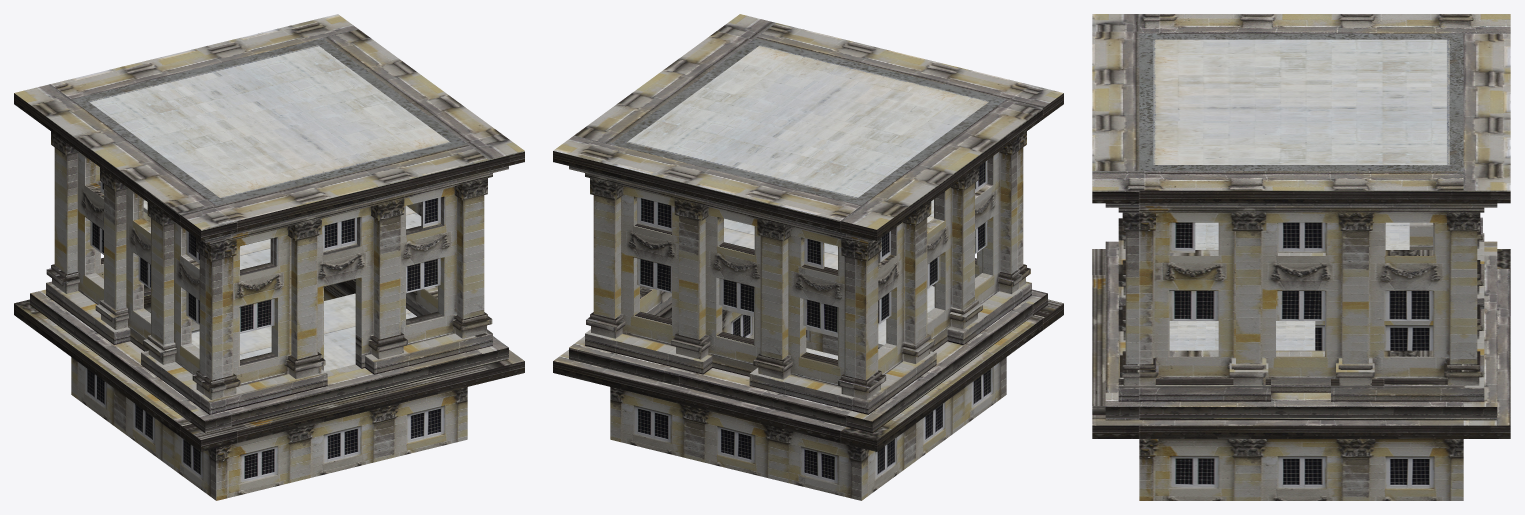
Rendered from BagBuilding5_200.fbx.
3 views of the same model, side by side, from view 1: azimuth 30°, elevation 25°; view 2: azimuth 150°, elevation 25°; view 3: azimuth 270°, elevation 25° (orthographic). The views are drawn at different scales.
Visible parts, largest first — view 1: main200, roof200, roofrim200, floor200; view 2: main200, roof200, roofrim200, floor200; view 3: main200, roof200, roofrim200, floor200.
Boxes of the visible parts, x1,y1,x2,y2 form: main200: [14, 14, 524, 500]; roof200: [88, 45, 450, 198]; roofrim200: [71, 38, 466, 205]; floor200: [143, 200, 421, 371]; main200: [553, 14, 1063, 500]; roof200: [627, 45, 989, 198]; roofrim200: [611, 38, 1006, 205]; floor200: [722, 199, 934, 359]; main200: [1092, 14, 1510, 500]; roof200: [1153, 39, 1449, 165]; roofrim200: [1139, 33, 1463, 170]; floor200: [1169, 222, 1409, 350].
Size of the model in its own units: 18.94 by 16.5 by 18.94.
